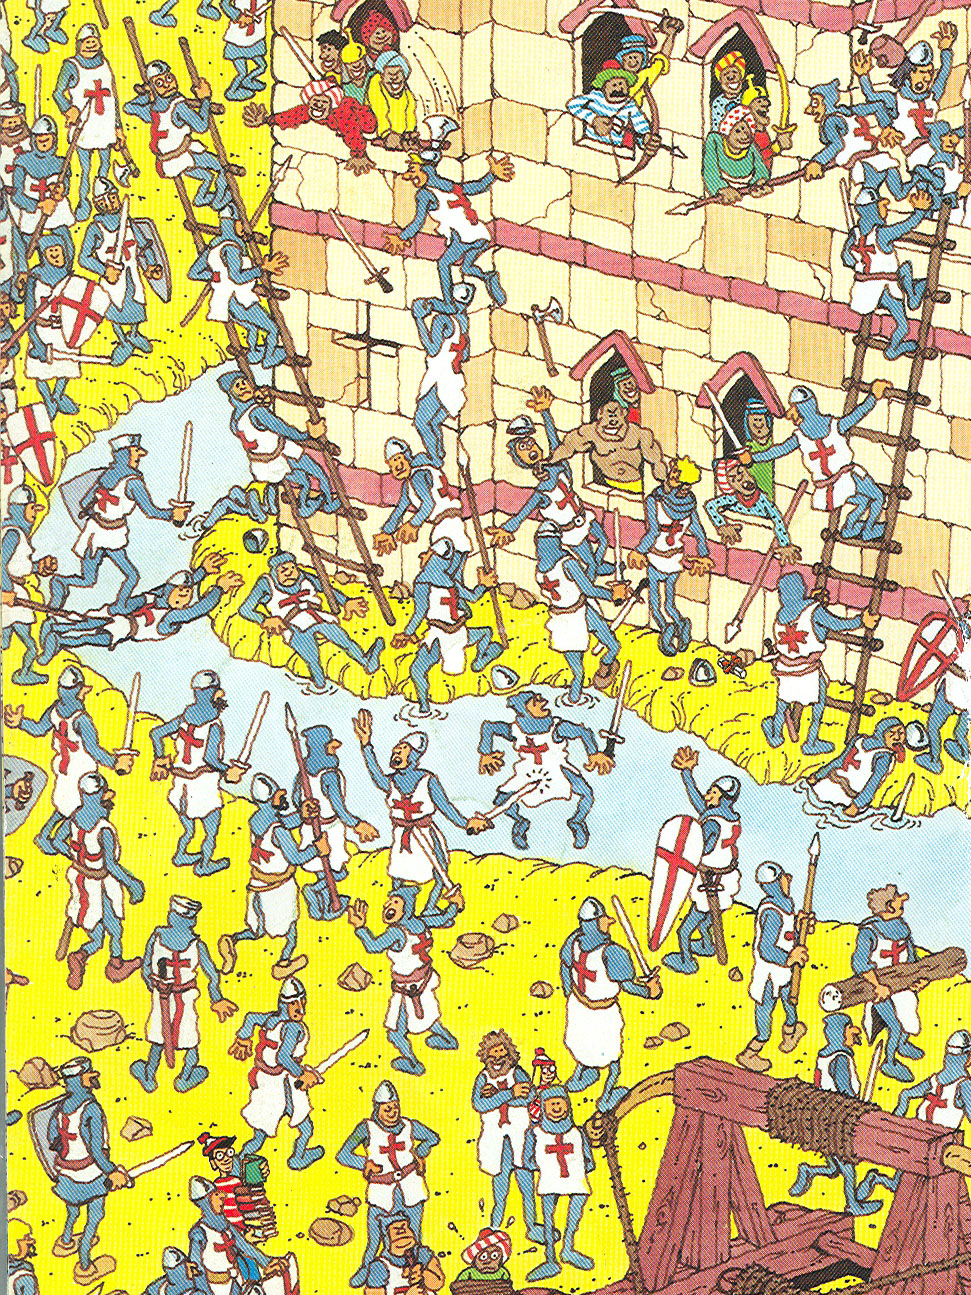waldo: (198, 1130, 237, 1176)
